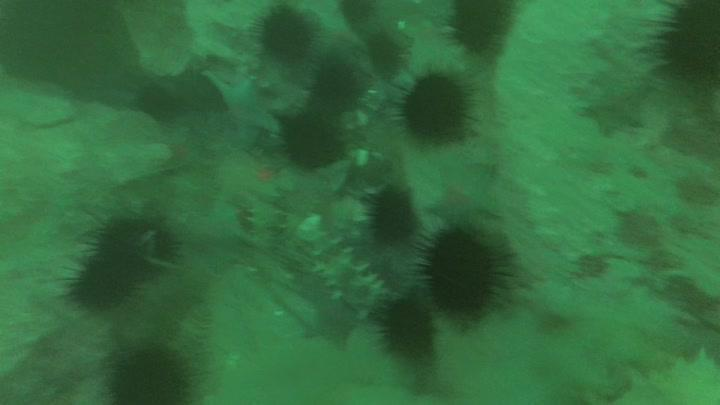urchin: (76, 215, 176, 302), (428, 229, 497, 319), (659, 2, 720, 89), (106, 348, 190, 405), (405, 75, 471, 141), (276, 109, 342, 171), (451, 1, 515, 57), (378, 301, 435, 359), (305, 64, 365, 109), (257, 13, 312, 61), (372, 186, 415, 243), (370, 36, 407, 75), (340, 1, 376, 26)
